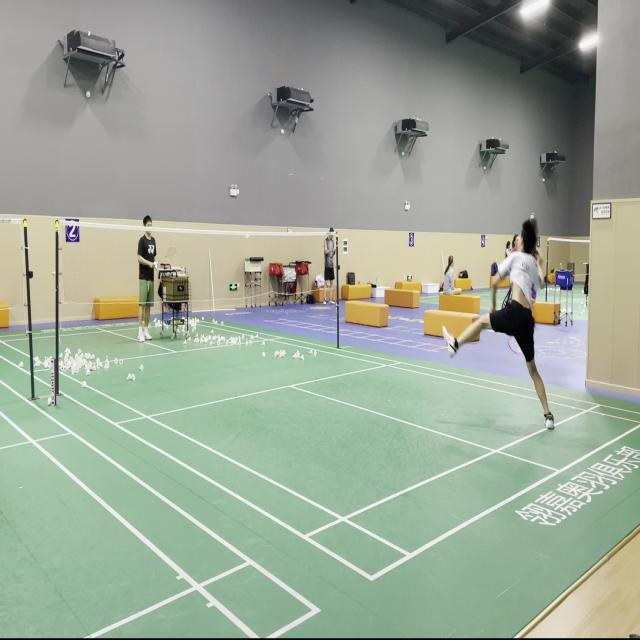shuttlecock: (245, 233, 251, 240)
